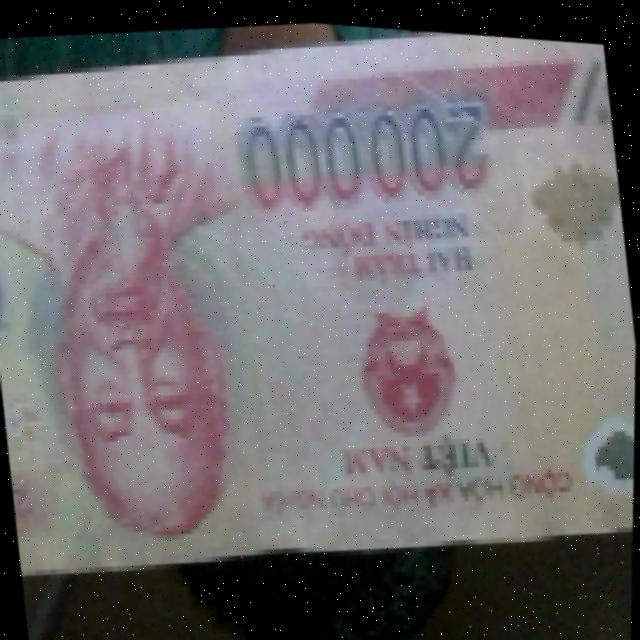200 000 VND: (0, 0, 640, 619)
